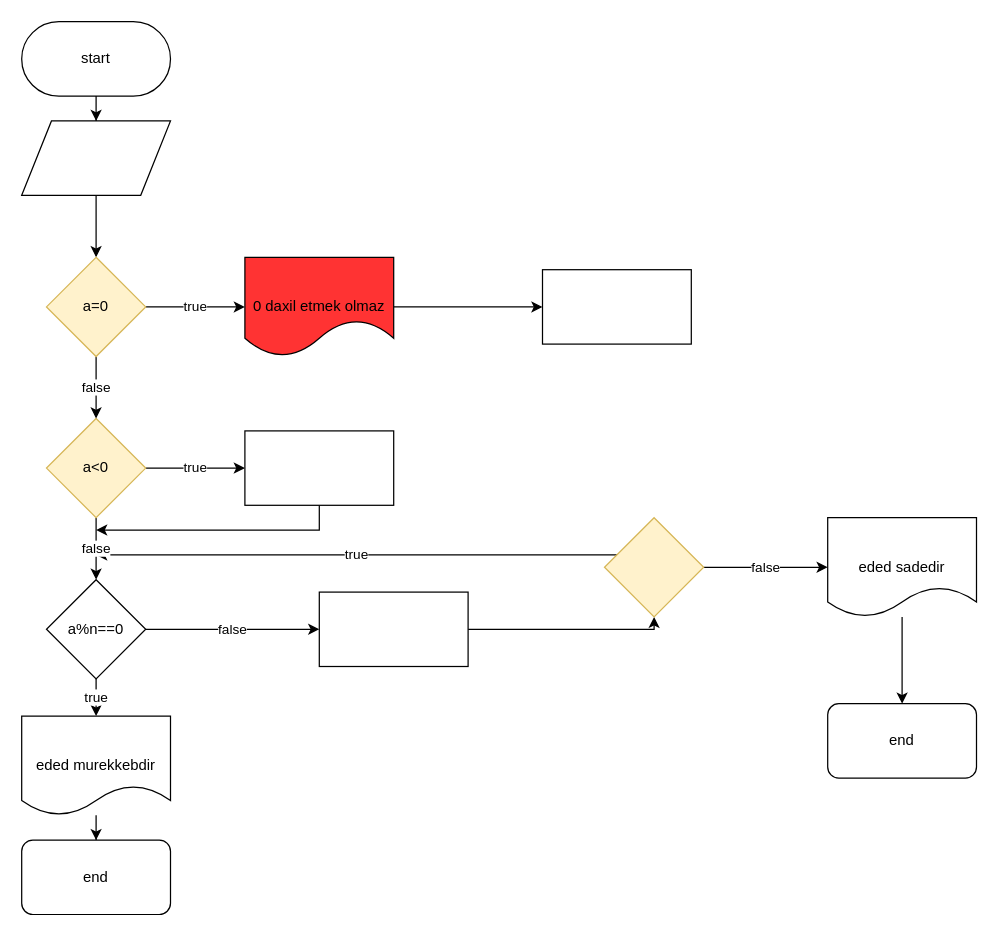
The diagram is 998 pixels wide and 936 high, and some of its shapes have lost their labels. Here are the shapes that lost their labels. From the top down, the centre of each, then its label:
At point 95,157: "a n=2".
At point 616,306: "son".
At point 319,467: "(-1)*a".
At point 653,566: "n<a/2".
At point 393,628: "n++".
